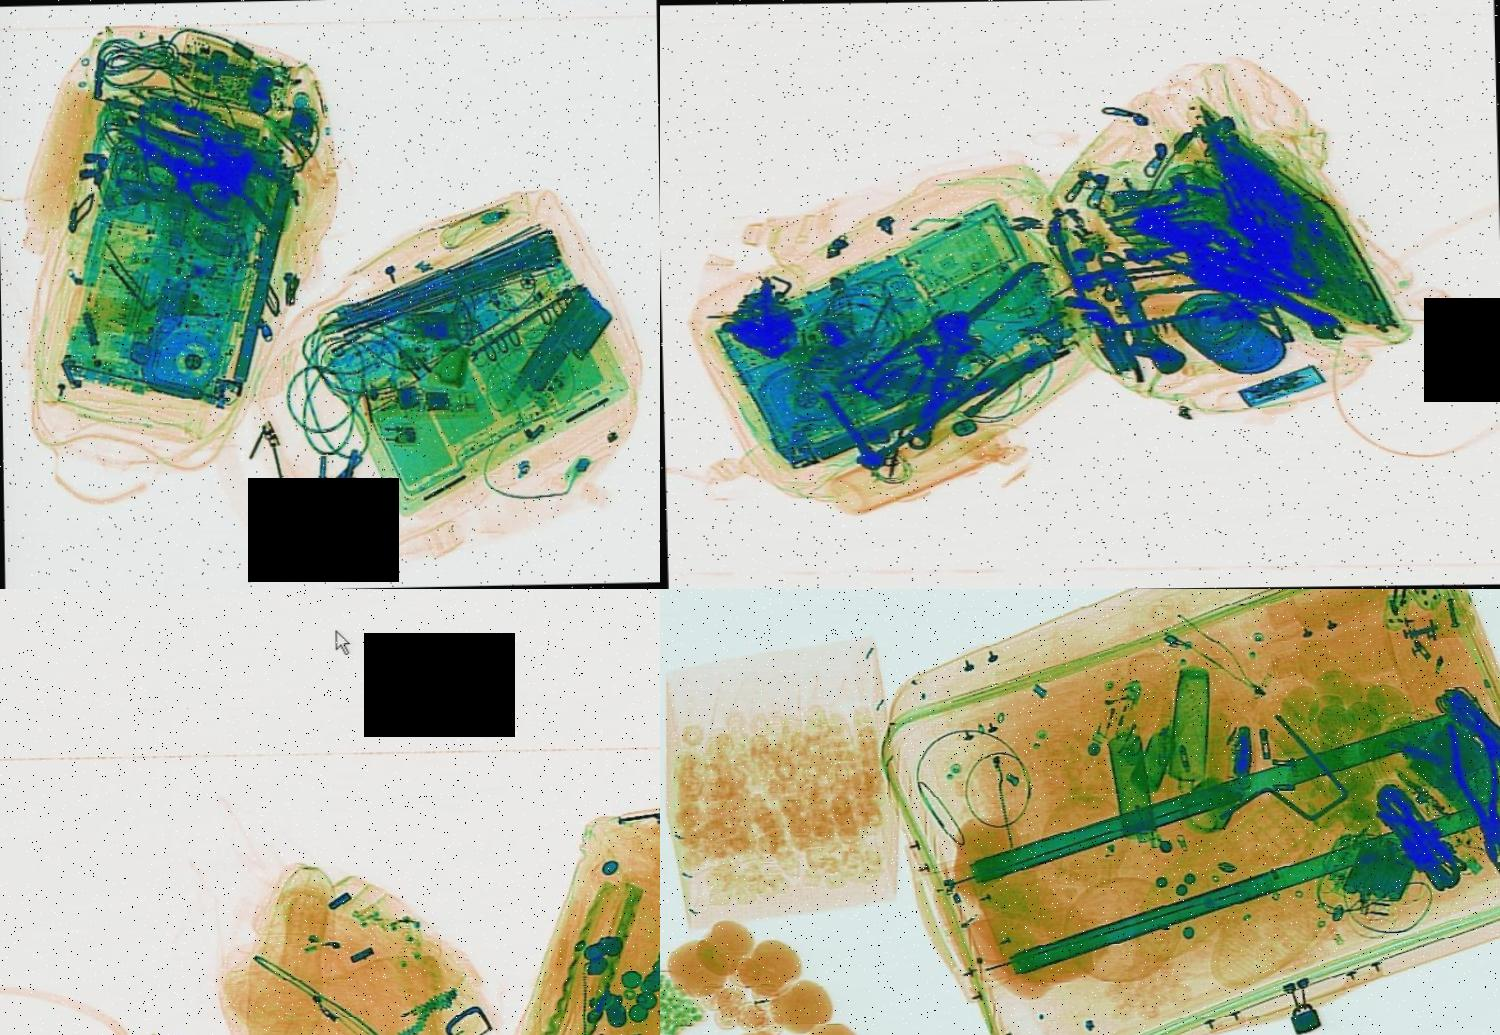Pliers: (103, 111, 257, 232), (1437, 718, 1500, 876), (841, 338, 957, 412)
Wrench: (878, 304, 994, 453), (1077, 243, 1187, 379), (820, 357, 965, 406), (1246, 278, 1352, 345)
